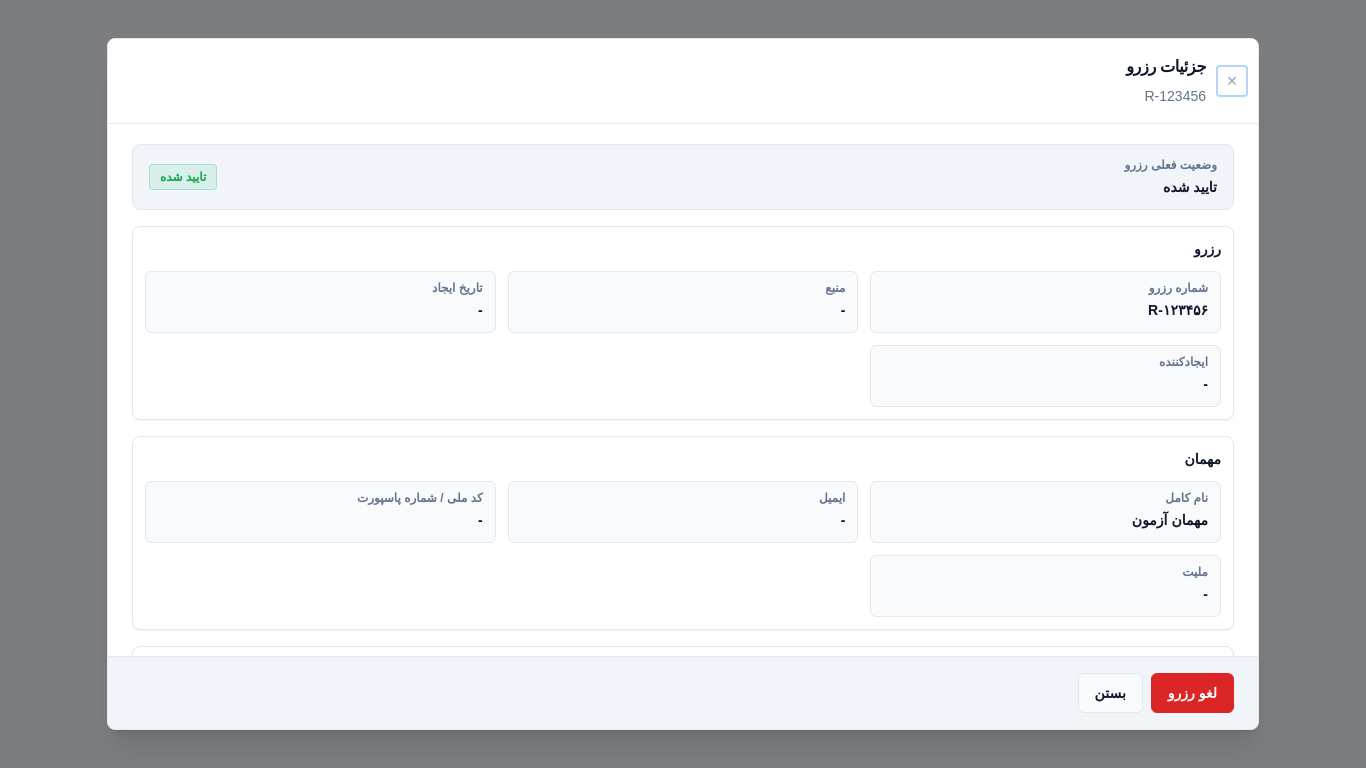
Test: Admin funding-aware cancellation V2 › shows wallet-only funding and requires source decisions
Click the button "لغو رزرو". click: (1192, 693)
box: [1151,673,1234,713]
(page scrolled)
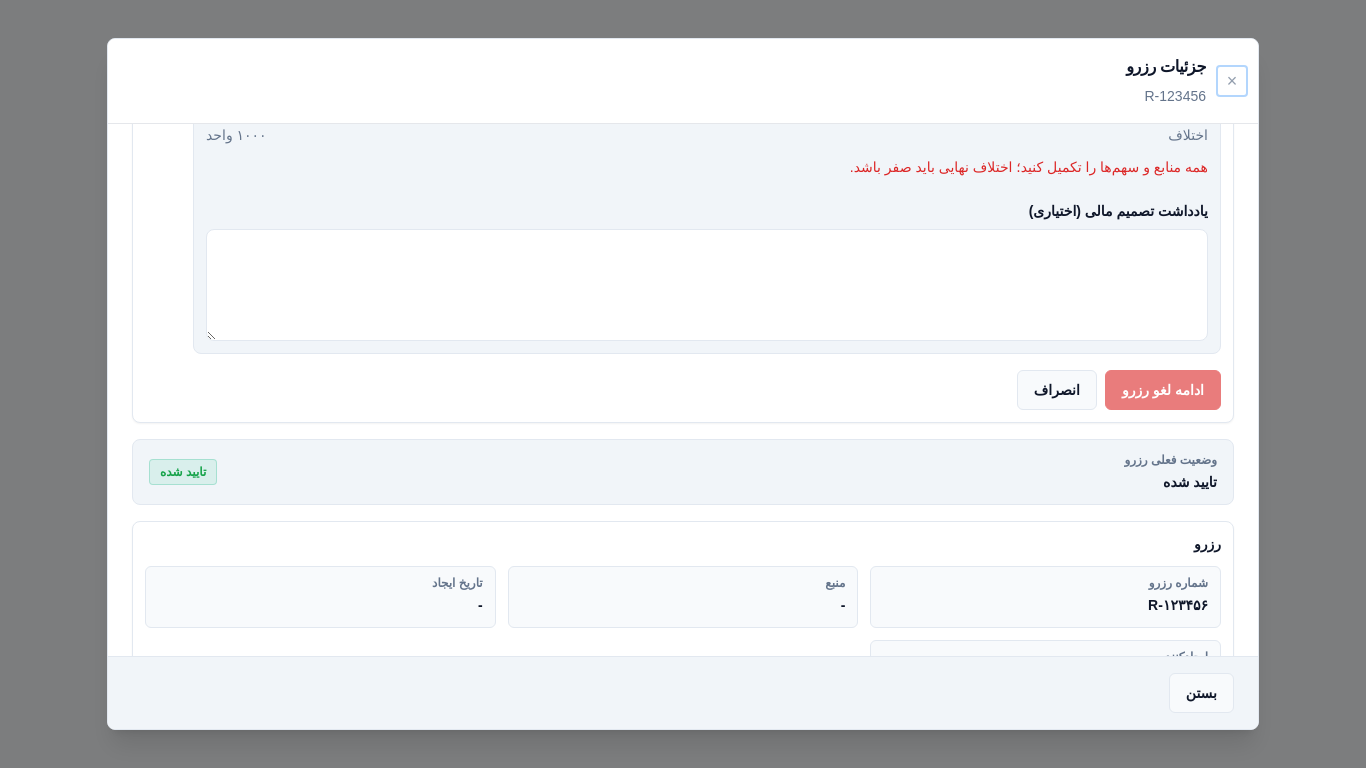
Now the button "ادامه لغو رزرو" is disabled, box [1105,370,1221,410]
